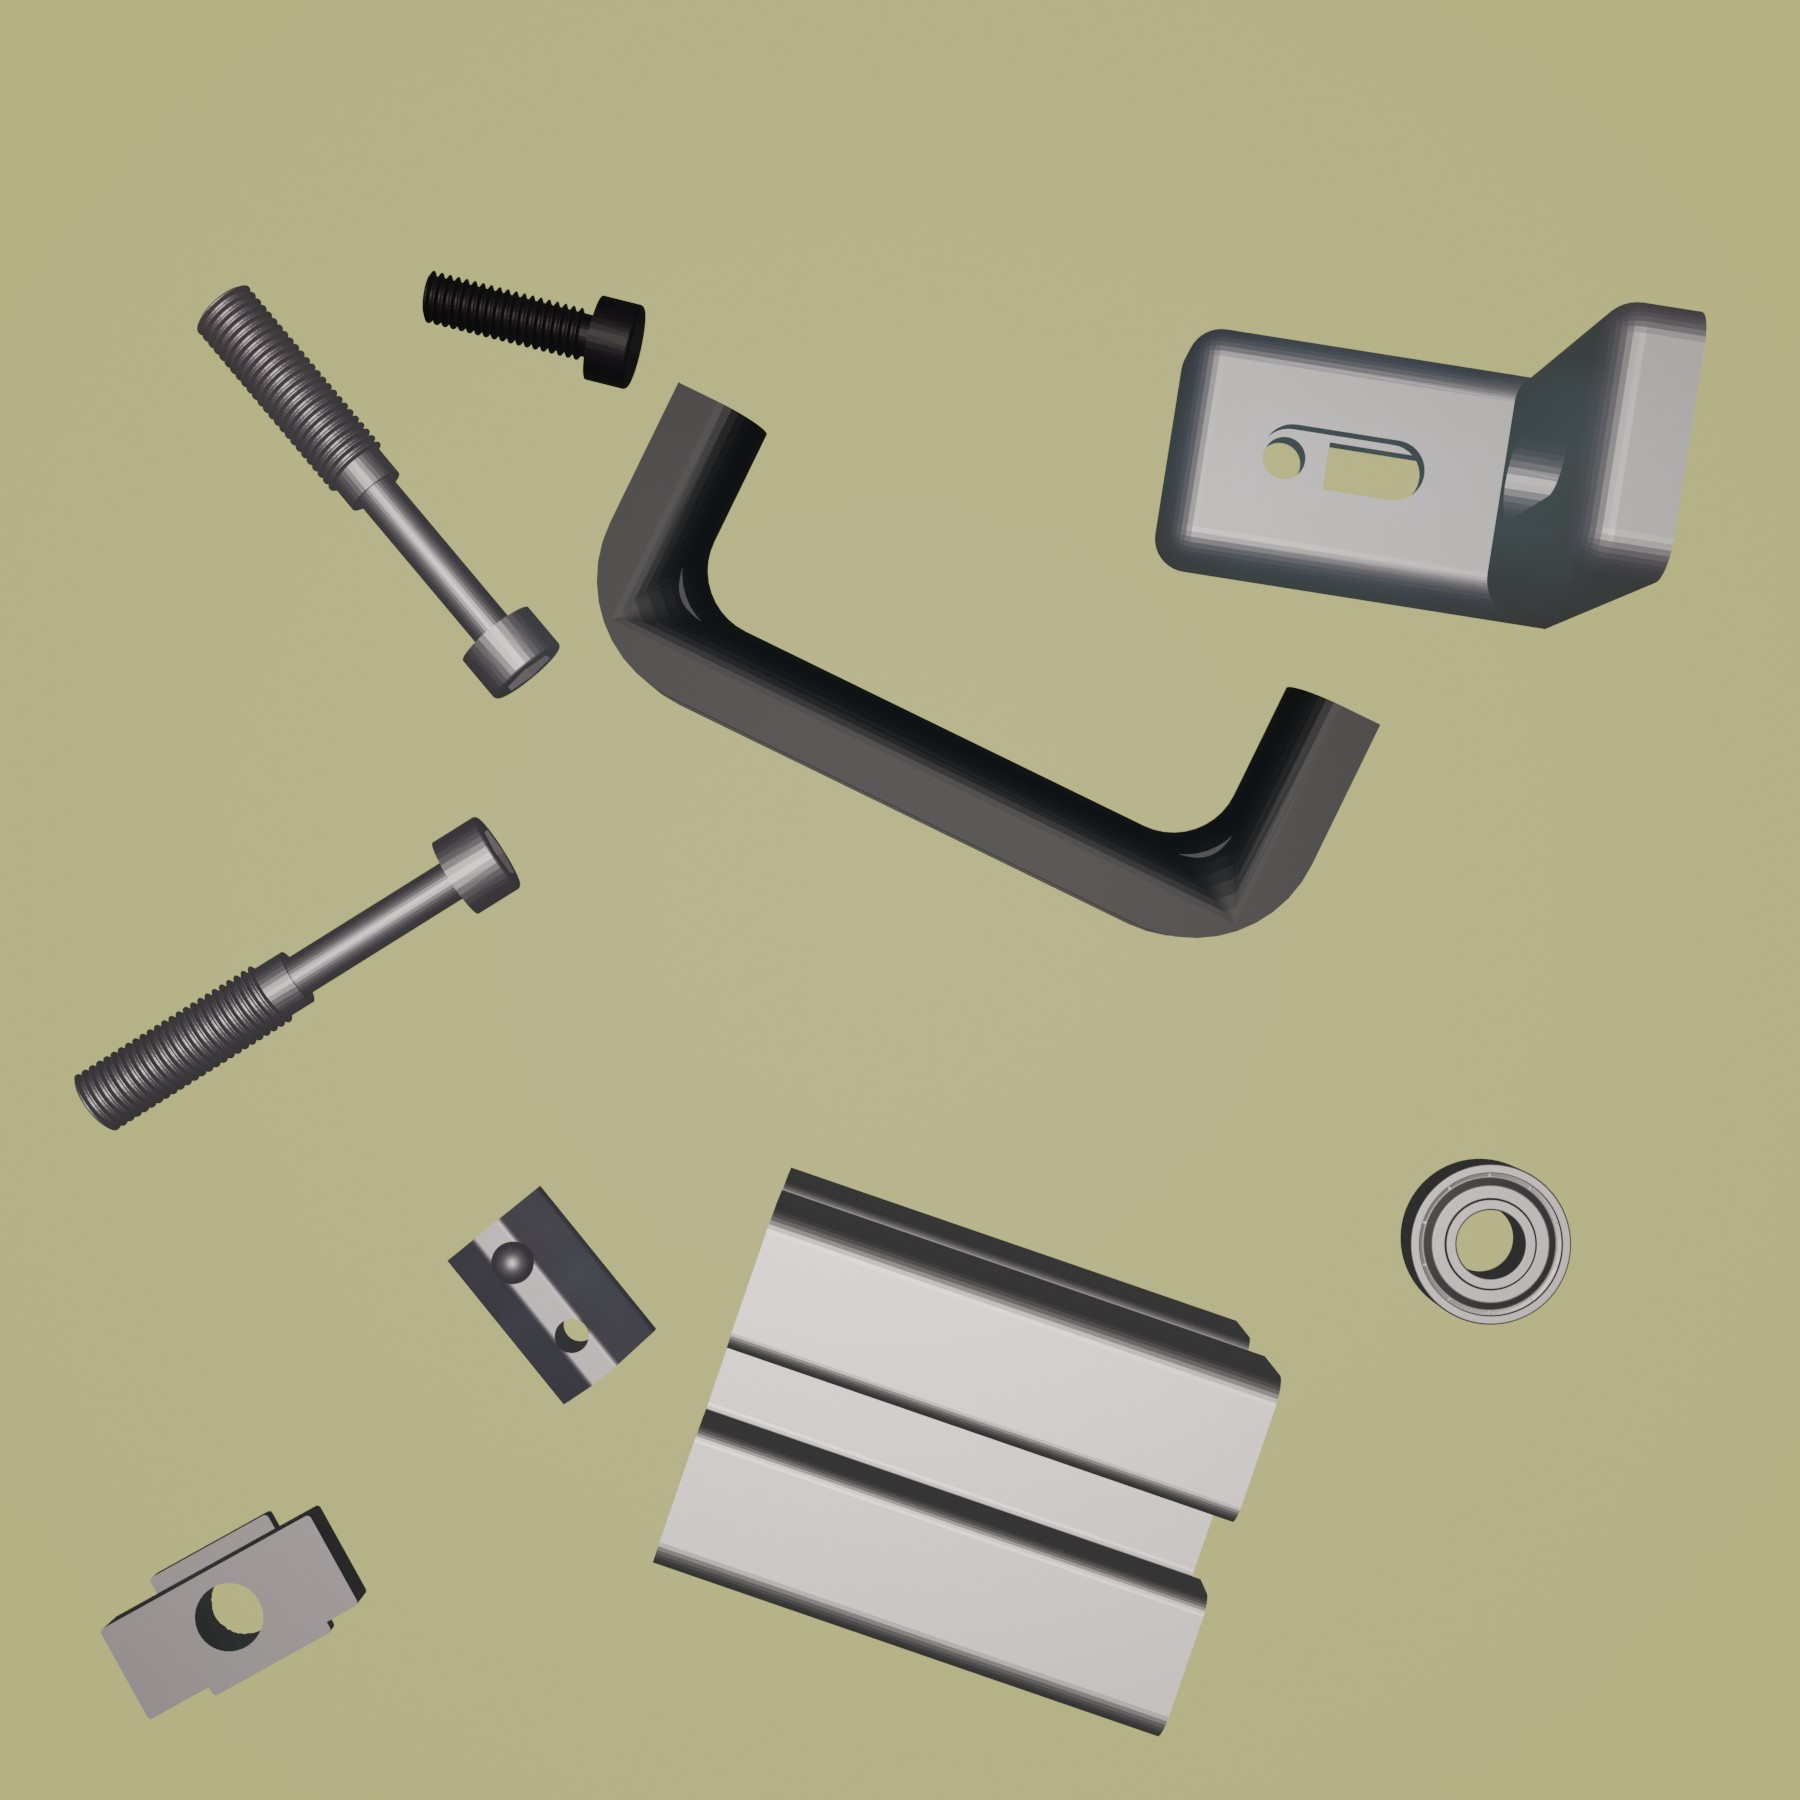Aluminium Extension: (648, 1165, 1282, 1739)
Ball Bearing: (1398, 1155, 1576, 1330)
Multiwinkel: (1151, 297, 1709, 635)
Pull Handle: (593, 382, 1381, 941)
Shoulder Socket Head Cap Screw: (190, 280, 565, 702), (69, 813, 523, 1131)
Socket Head Cap Screw: (417, 265, 648, 392)
T Nut Square: (96, 1498, 371, 1723)
T Spring Nut: (442, 1182, 659, 1404)
